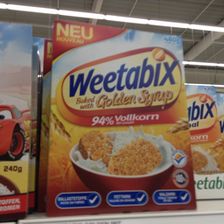cereal: (45, 19, 199, 217)
